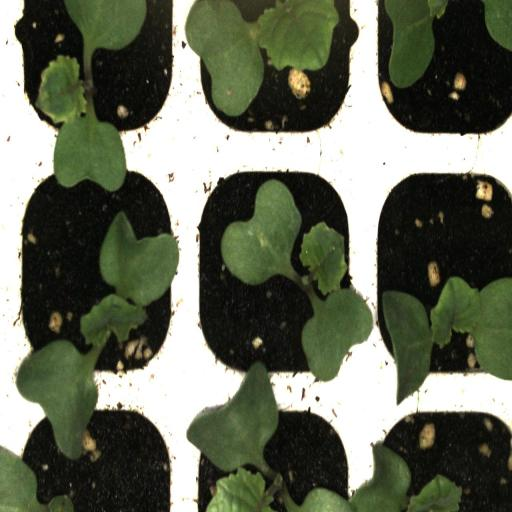seedling: (188, 148, 368, 384), (14, 145, 189, 379), (369, 146, 512, 388), (190, 0, 368, 147), (16, 0, 190, 143), (186, 378, 368, 512)
